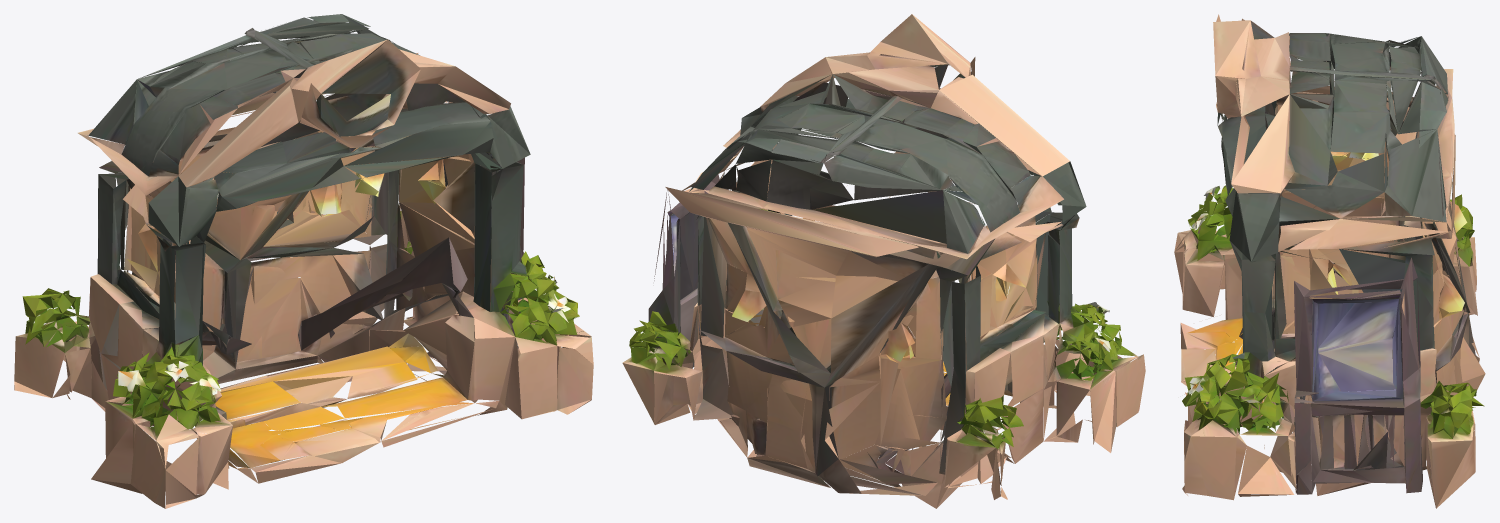
The model's file is M-10_01_subway.glb.
3 renders of one model, left to right at view 1: azimuth 30°, elevation 25°; view 2: azimuth 150°, elevation 25°; view 3: azimuth 270°, elevation 25°, orthographic. The views are drawn at different scales.
Parts seen in each view (by area): view 1: M-10_01_subway; view 2: M-10_01_subway; view 3: M-10_01_subway.
Boxes of the visible parts, left/top/right/bottom form: M-10_01_subway: left=14, top=14, right=593, bottom=508; M-10_01_subway: left=622, top=14, right=1145, bottom=508; M-10_01_subway: left=1174, top=14, right=1485, bottom=508.
Bounding box in the file's own units: 5.01 × 4.61 × 3.06.
Materials: 3 (3 with a texture image).
